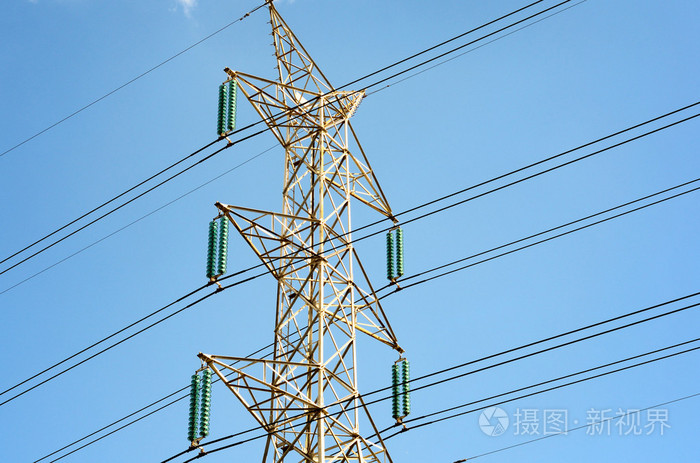insulator: (186, 369, 211, 440), (205, 215, 230, 282), (382, 225, 405, 277), (390, 359, 410, 418), (216, 80, 237, 134)
